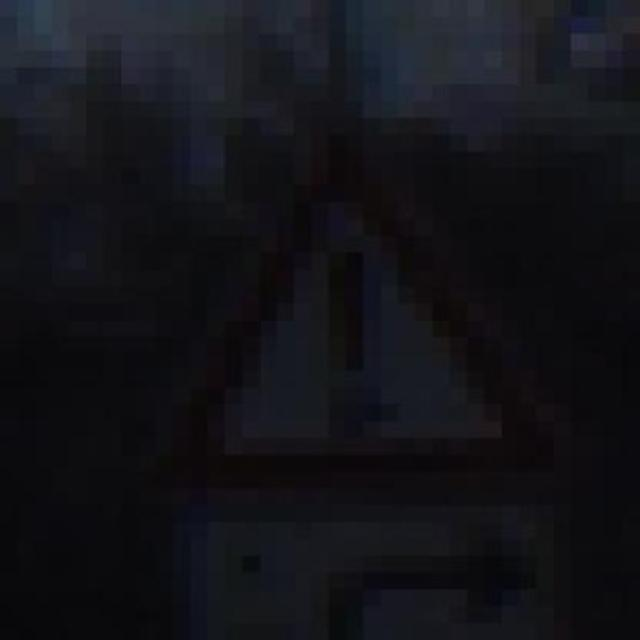Attention Please-: (138, 84, 536, 505)
